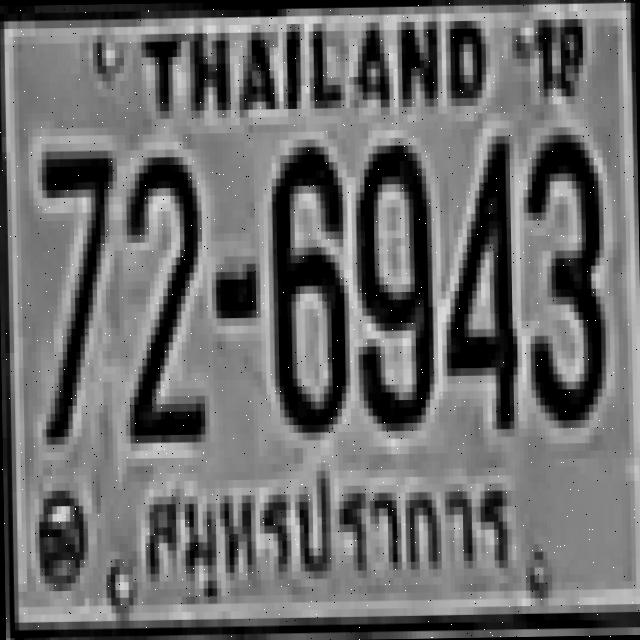2: (120, 148, 200, 436)
3: (522, 127, 602, 420)
4: (440, 128, 516, 422)
6: (266, 138, 346, 425)
7: (36, 143, 112, 437)
9: (350, 137, 430, 424)
SamutPrakan: (134, 464, 530, 618)
